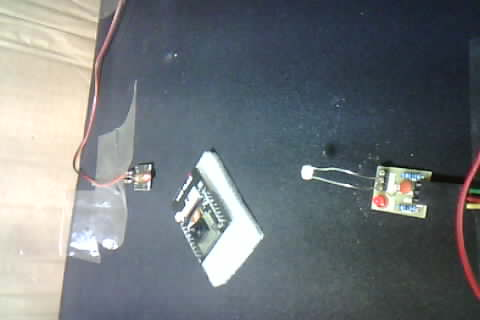esp32: (168, 148, 262, 282)
